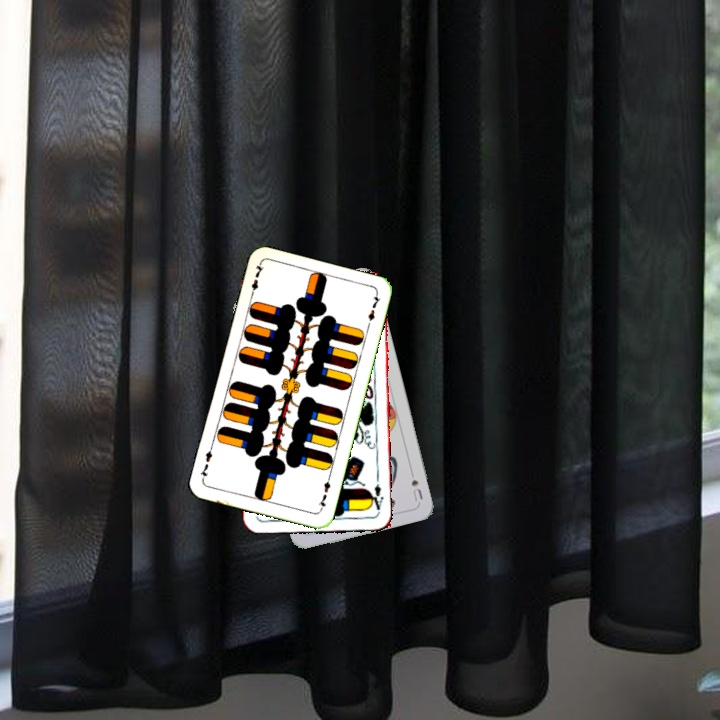E7: (246, 260, 266, 300), (314, 473, 333, 513)
EA: (366, 480, 386, 515)
SU: (407, 475, 425, 504)
